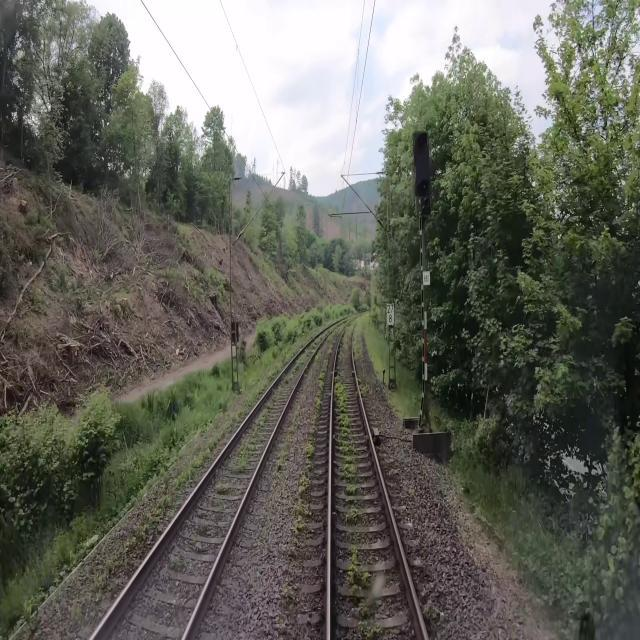Plant: (68, 312, 349, 635), (270, 318, 352, 622), (232, 319, 345, 477), (334, 362, 384, 639), (352, 311, 371, 366), (341, 314, 363, 356), (165, 543, 190, 579), (20, 596, 42, 635), (212, 471, 232, 502), (358, 370, 374, 402)
